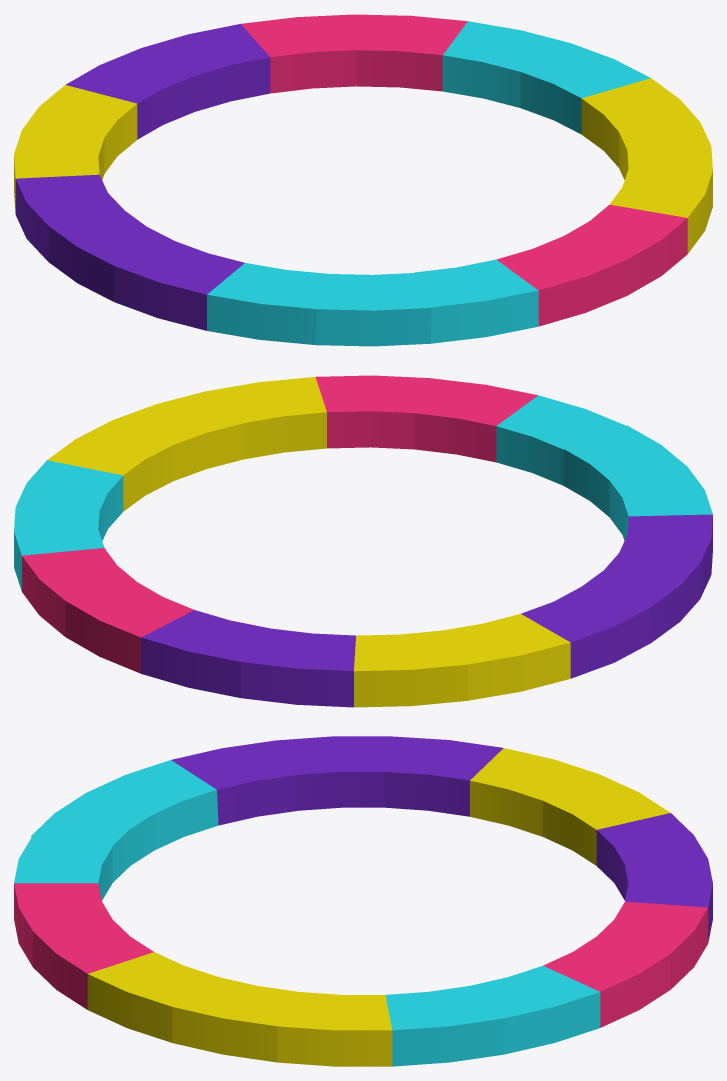
Rendered from color 6.FBX.
3 renders of one model, top to bottom at view 1: azimuth 30°, elevation 25°; view 2: azimuth 150°, elevation 25°; view 3: azimuth 270°, elevation 25°, orthographic.
Visible parts, largest first — view 1: Group01; view 2: Group01; view 3: Group01.
Boxes of the visible parts, <box> form: Group01: <box>14,14,712,346</box>; Group01: <box>14,375,712,707</box>; Group01: <box>14,736,712,1066</box>.
Bounding box in the file's own units: 64.23 × 3.69 × 64.53.
